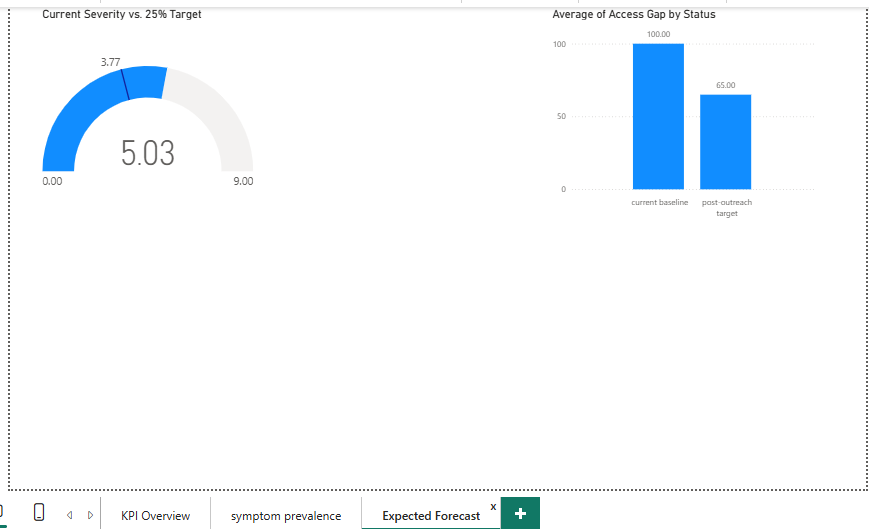

This screenshot's page, from the dashboard's own definition file:
{"tool":"powerbi","page":{"name":"Expected Forecast","canvas":[1280,720],"ordinal":2},"visuals":[{"type":"gauge","fields":{"Y":["Avg(Data.Symptom score)"]},"box":[43.3,0,325,323.3],"z":0},{"type":"clusteredColumnChart","fields":{"Category":["Outreach Impact.Status"],"Y":["Avg(Outreach Impact.Access Gap)"]},"box":[805,0,401.7,323.3],"z":1000}]}

Visuals, with their boxes on the page's 1280x720 design canvas (x1, y1, x2, y2). These are canvas units, not pixel positions in the 869x529 screenshot, which may show the page scaled, cropped or inside an application window:
gauge - Avg(Data.Symptom score): x1=43, y1=0, x2=368, y2=323
clusteredColumnChart - Outreach Impact.Status x Avg(Outreach Impact.Access Gap): x1=805, y1=0, x2=1207, y2=323
